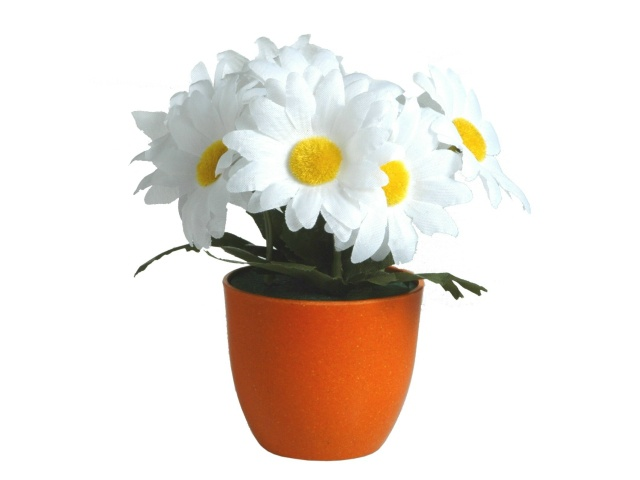flowerpot: (225, 265, 425, 460)
